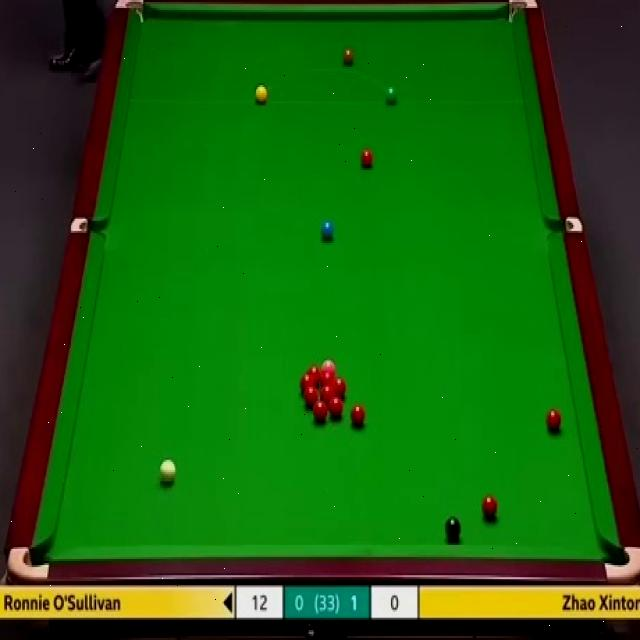black-ball: (445, 517, 462, 542)
blue-ball: (320, 220, 334, 242)
brown-ball: (342, 49, 354, 69)
green-ball: (384, 86, 399, 107)
pink-ball: (321, 360, 336, 370)
red-ball: (481, 495, 499, 521), (359, 146, 375, 170), (546, 410, 562, 432), (350, 406, 366, 428), (328, 398, 342, 420), (314, 402, 327, 423), (304, 387, 317, 408), (300, 374, 316, 391), (333, 378, 346, 398), (307, 368, 322, 385), (321, 386, 335, 400), (320, 370, 332, 386)
white-ball: (160, 461, 176, 484)
yellow-ball: (255, 84, 268, 104)
